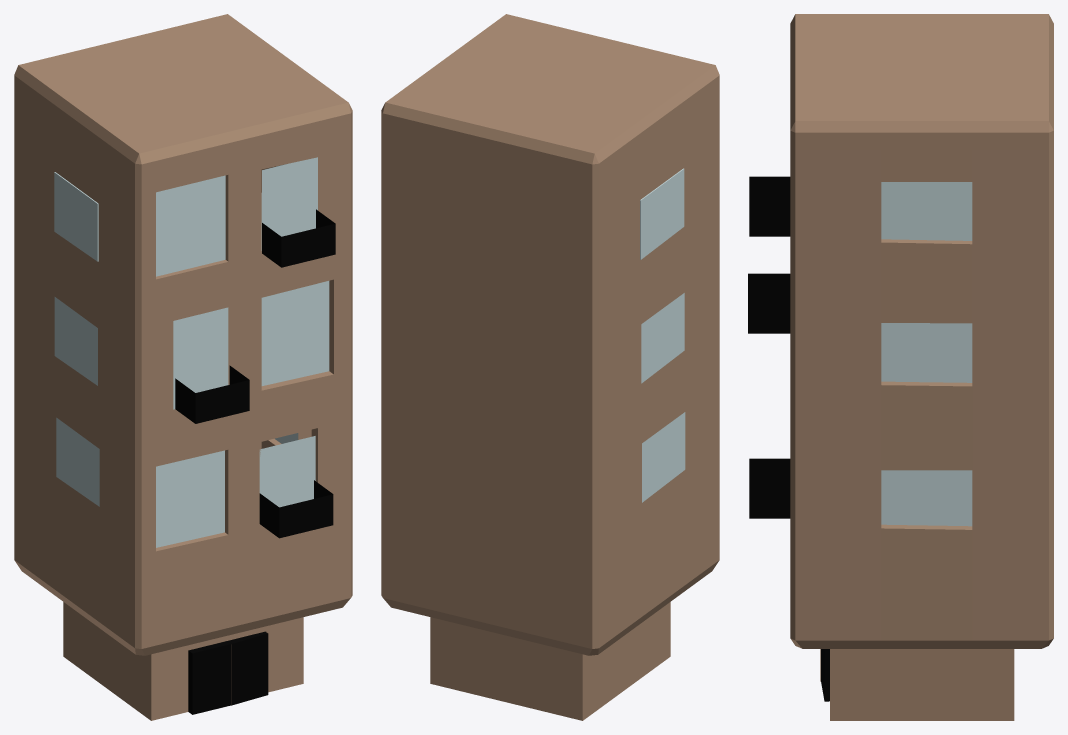
The model's file is appartmentbeigereal.fbx.
3 renders of one model, left to right at view 1: azimuth 30°, elevation 25°; view 2: azimuth 150°, elevation 25°; view 3: azimuth 270°, elevation 25°, orthographic. The views are drawn at different scales.
Parts seen in each view (by area): view 1: Cube, Cube.005, Cube.004, Cube.006, Cube.014, Cube.013, Cube.012, Cube.007, Cube.015, Cube.017, Cube.016, Cube.002 (+3 smaller); view 2: Cube, Cube.015, Cube.016, Cube.017; view 3: Cube, Cube.010, Cube.009, Cube.011, Cube.002, Cube.003, Cube.001.
Boxes of the visible parts, x1,y1,x2,y2 form: Cube: (14,14,352,720); Cube.005: (261,281,329,385); Cube.004: (156,175,225,276); Cube.006: (156,450,224,547); Cube.014: (173,307,228,409); Cube.013: (261,157,317,250); Cube.012: (259,436,315,507); Cube.007: (188,641,230,714); Cube.015: (54,172,98,261); Cube.017: (56,417,99,506); Cube.016: (54,297,97,385); Cube.002: (175,365,249,423); Cube: (381,14,719,720); Cube.015: (640,168,684,259); Cube.016: (641,293,684,383); Cube.017: (642,412,685,502); Cube: (790,14,1053,720); Cube.010: (881,323,972,382); Cube.009: (881,182,972,240); Cube.011: (881,470,972,526); Cube.002: (748,273,790,333); Cube.003: (749,458,790,518); Cube.001: (749,176,790,236).
Size of the model in its own units: 535 by 1368 by 617.
